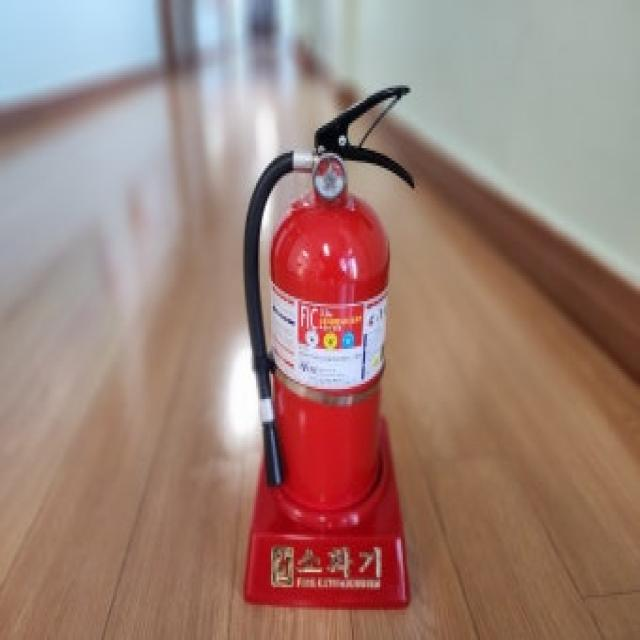pressure gauge: (313, 154, 346, 200)
